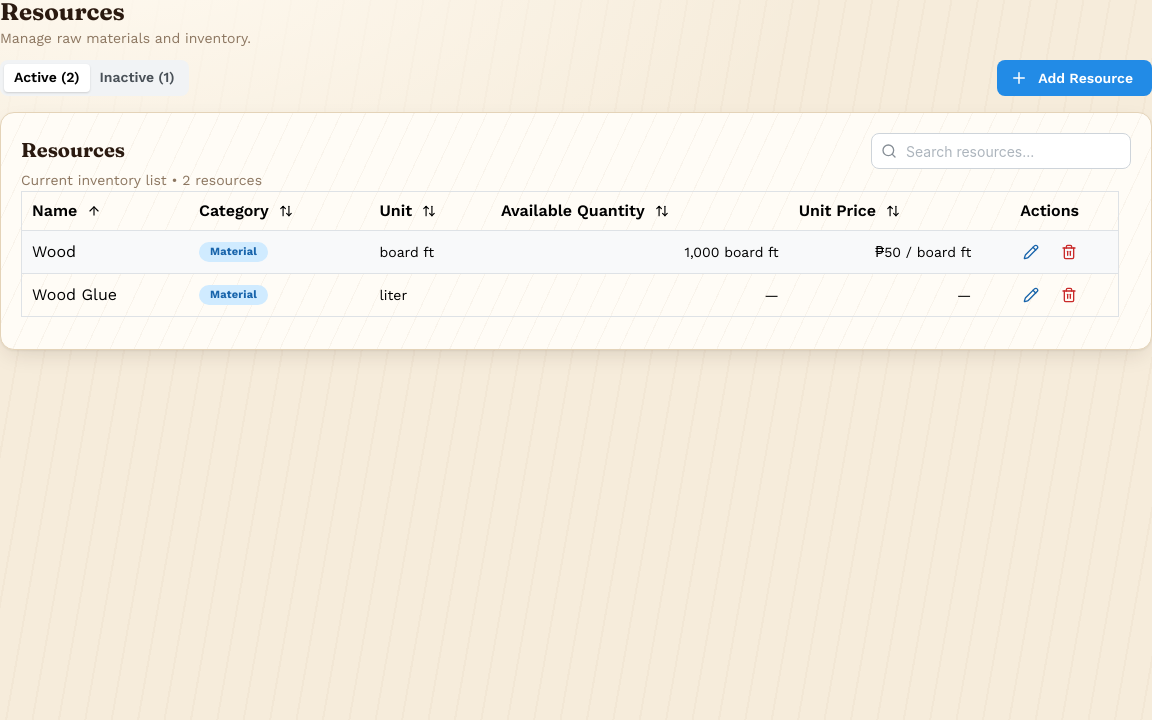
Test case: ResourcesPage resource-update notification › shows the plain updated notification when only the name changes
Expected: the text "Wood" is shown, [32, 240, 76, 265]
Click the button named "Edit Wood". click: (1031, 252)
box: [1017, 238, 1045, 266]
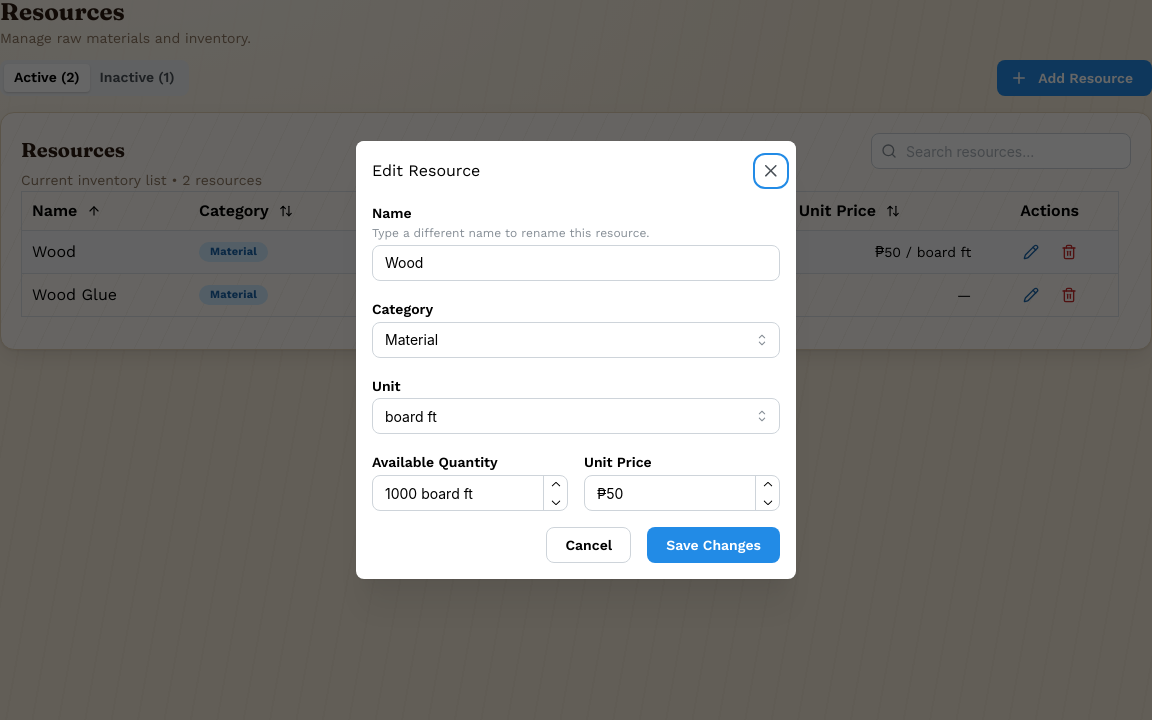
Replace the text in the dropdown labelled "Name" with "Pine". click: (576, 263)
box: [372, 245, 780, 281]
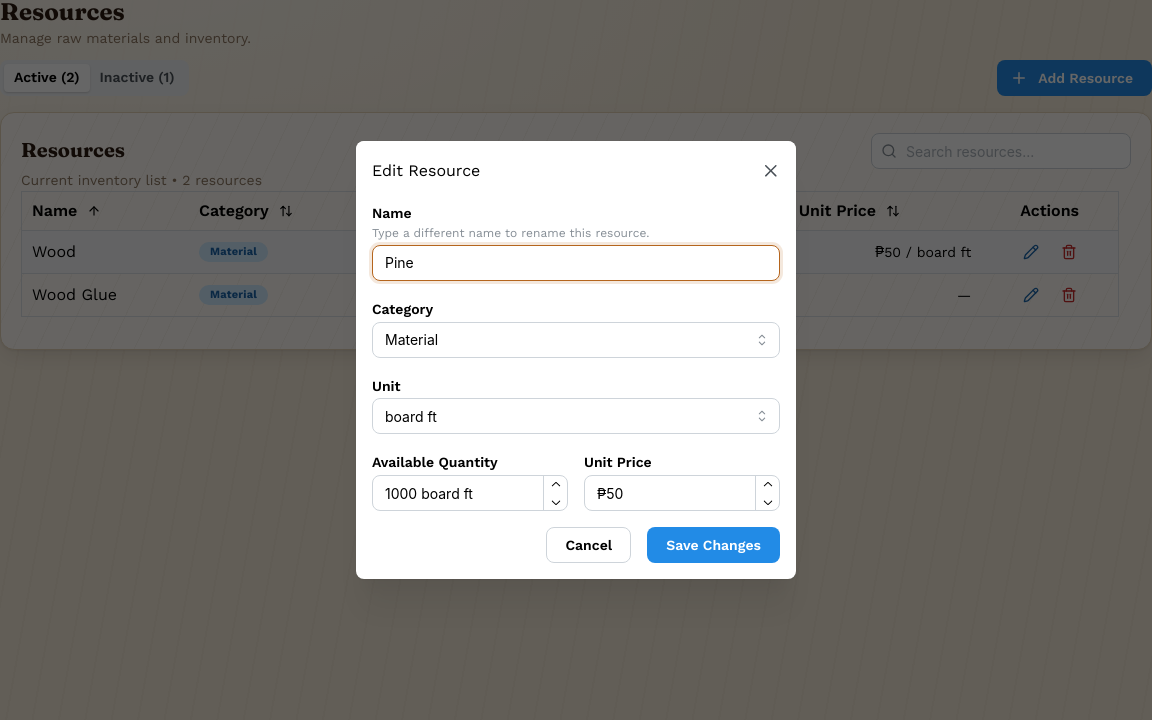
Click the button "Save Changes". click: (714, 545)
box: [647, 527, 780, 563]
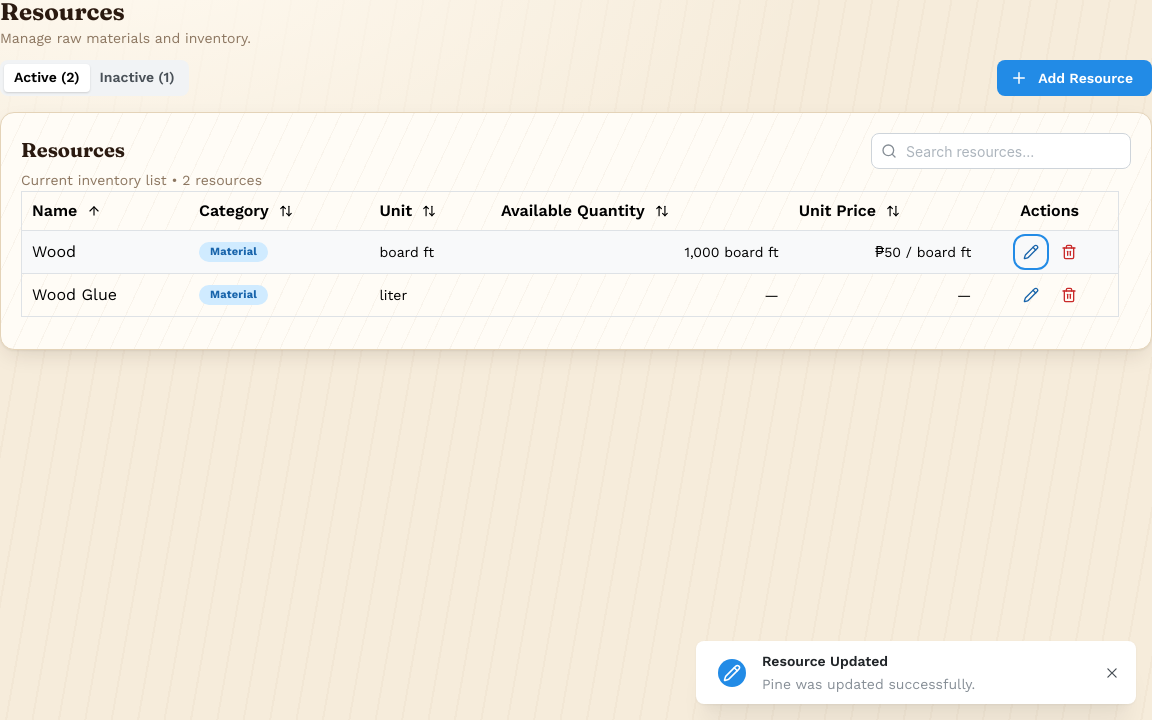
Expected: the text "Resource Updated" is shown, [762, 653, 888, 669]
